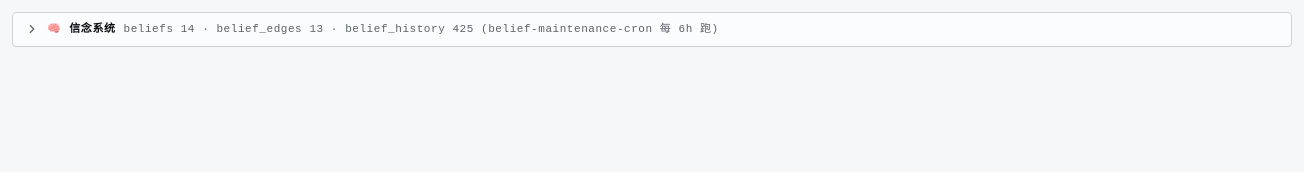
Test: BackendCapabilityPanel › 有数据但为空时提示该能力当前无数据
This screenshot has width=1304, height=172.
What coordinates should you click on to do the following:
click the text "信念系统"
I would click on:
 (92, 29)
Its box is [69,21,116,38].
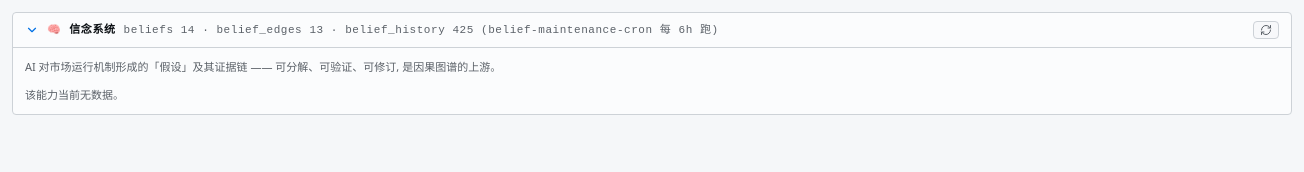
Expected: the text "该能力当前无数据。" is shown, [25,90,124,102]
